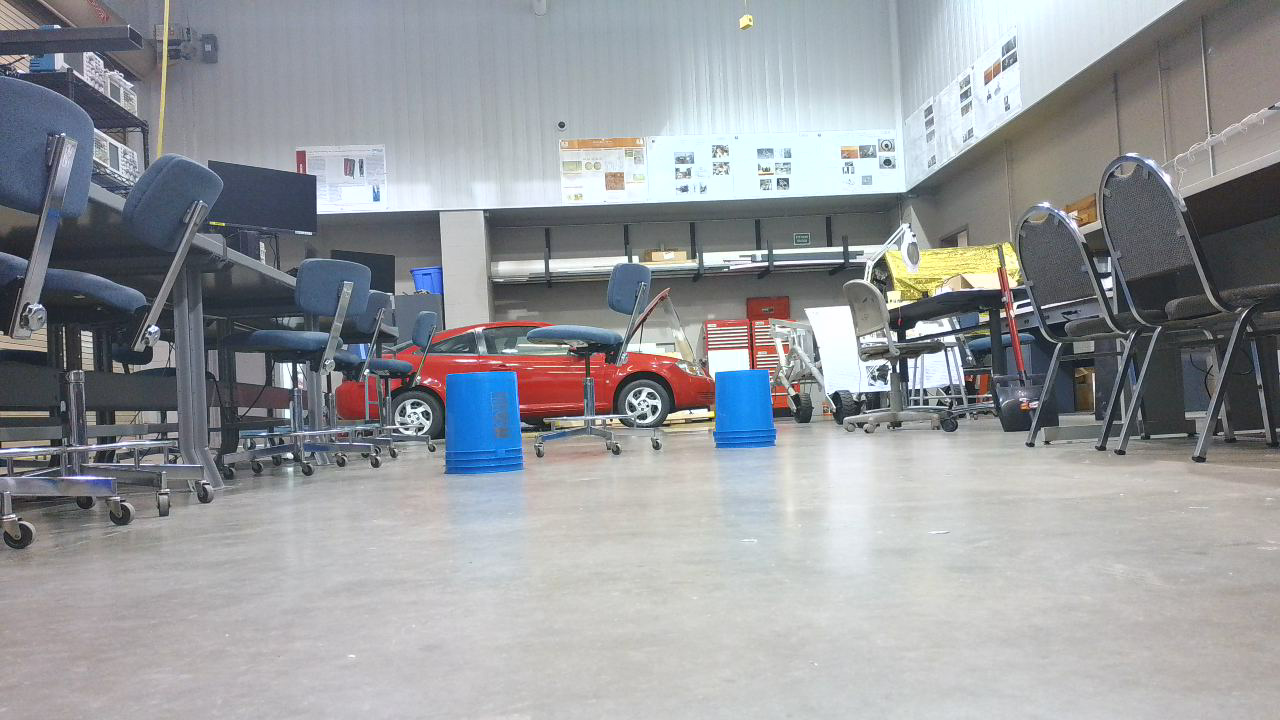blue_bucket: (449, 374, 532, 482), (718, 373, 783, 455)
